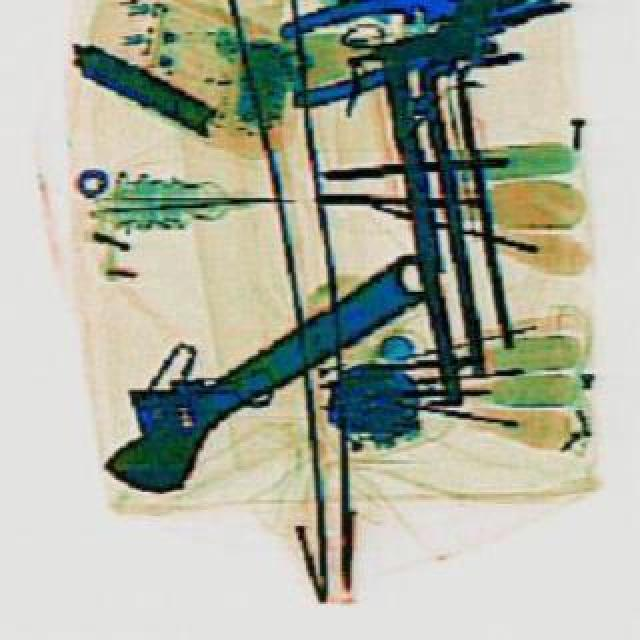scissors: (68, 220, 462, 512)
wrench: (274, 0, 570, 106)
